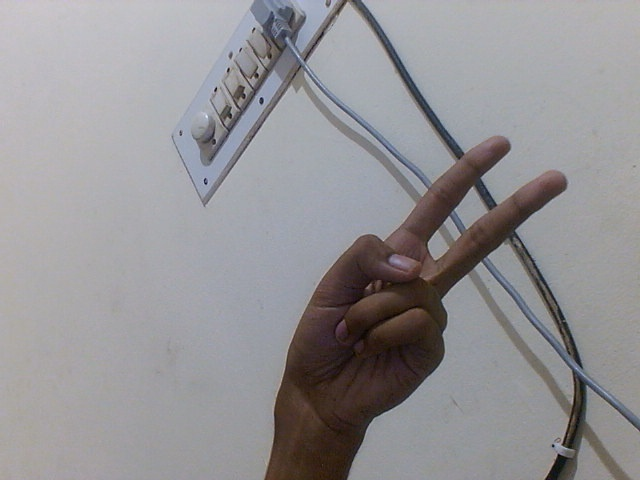hand: (280, 122, 571, 446)
